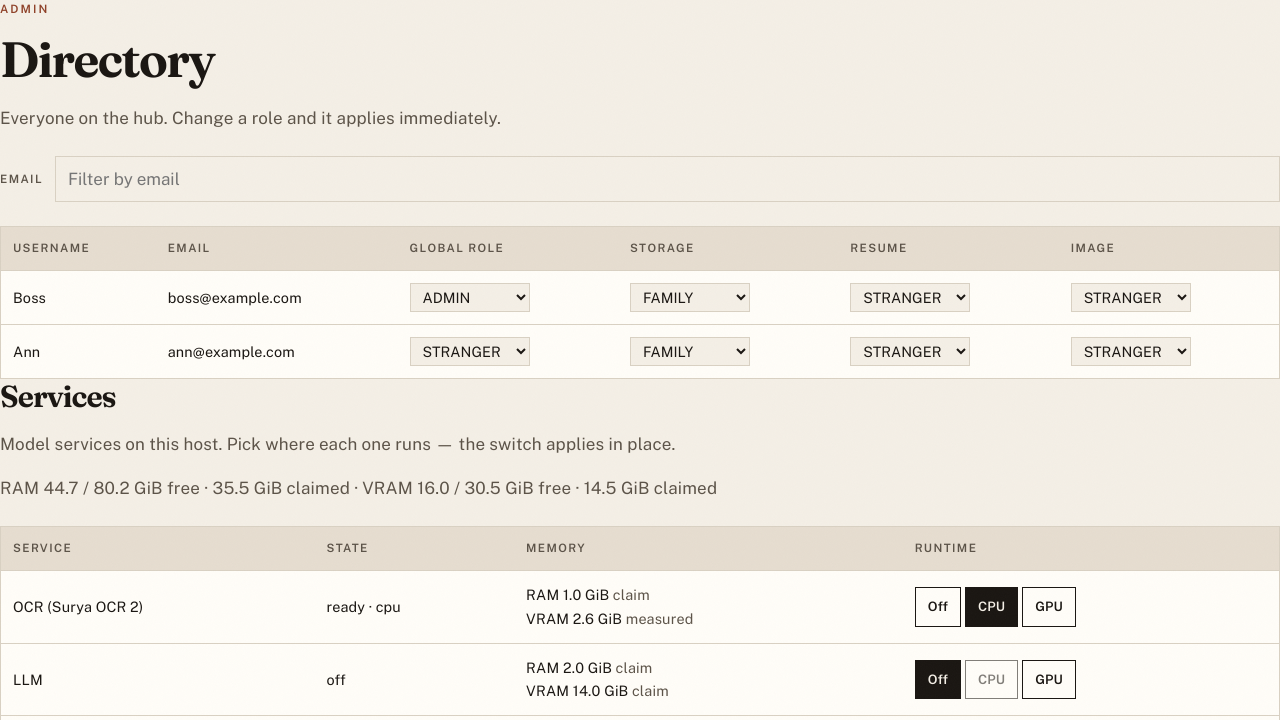
Test: Admin › services section › shows the API error code and message when a switch is rejected, keeping the table usable
This screenshot has width=1280, height=720.
Click the button "GPU" in the row of "OCR (Surya OCR 2)" at {"x": 1049, "y": 607}, box [1022,587,1076,627]
(page scrolled)
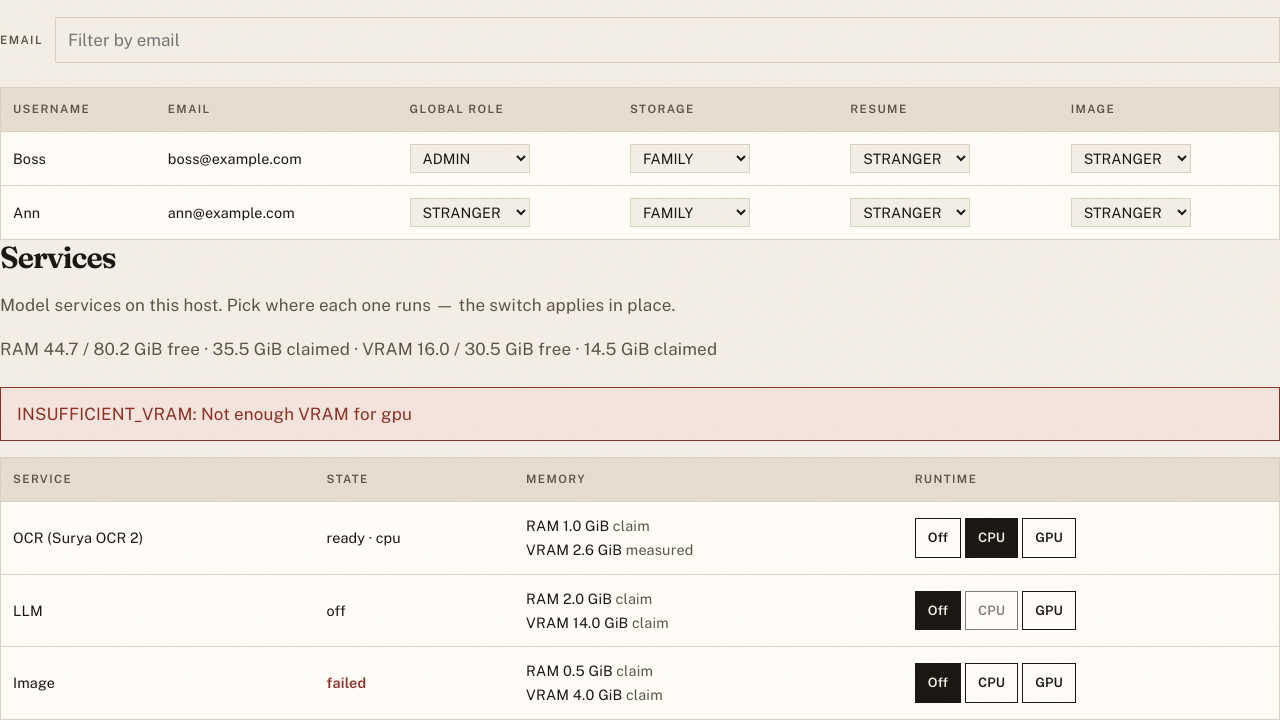
Expected: the table named "Services" is shown, [1,458,1279,719]
Expected: the text "INSUFFICIENT_VRAM: Not enough VRAM for gpu" is shown, [0,387,1279,441]
